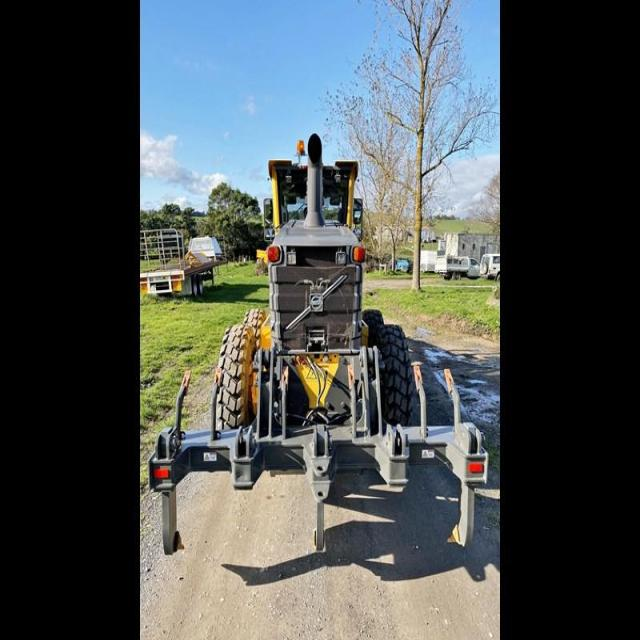buldozerpayloadergrader: (158, 109, 476, 519)
